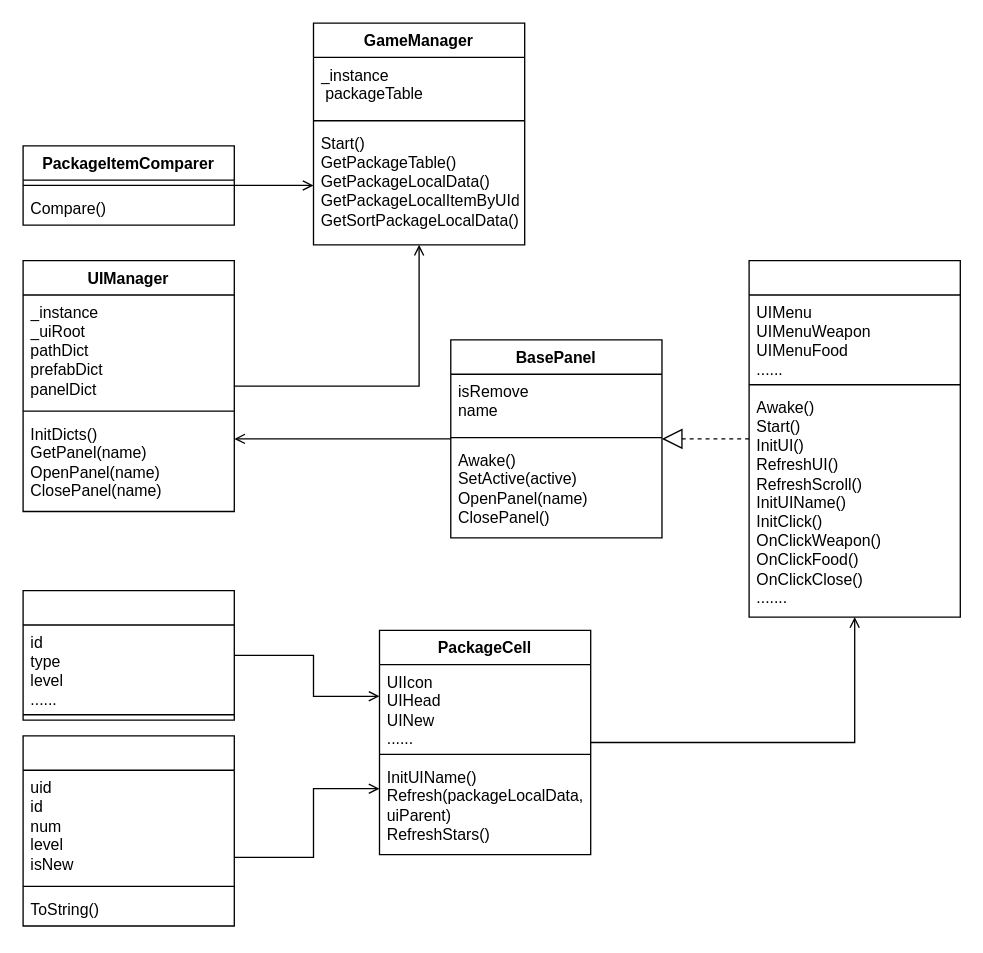
Image size: 983x953. Some labels were removed from this diagram. Here are the shapes that lost their labels. From the top down, the box of each, then its label:
(748, 259, 960, 617): PackagePanel
(22, 589, 234, 720): PackageTableItem
(22, 735, 234, 926): PackageLocalItem
